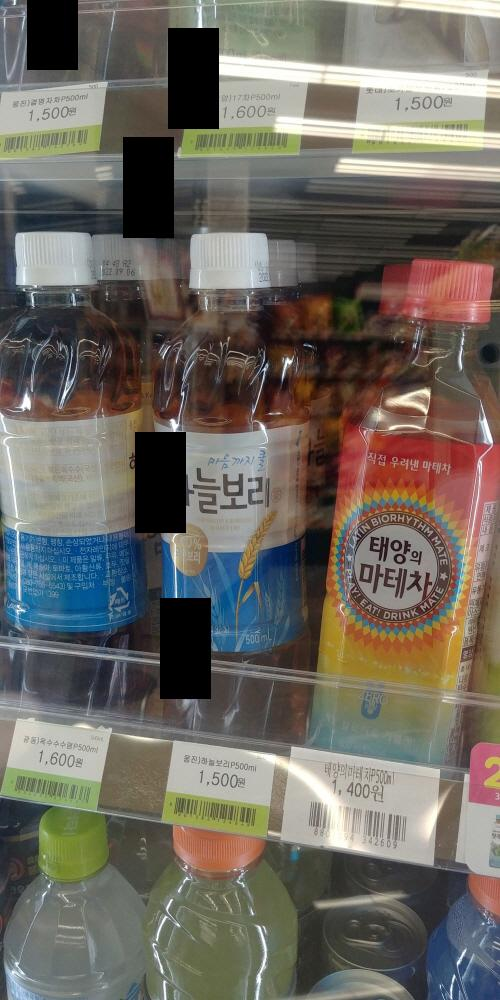haneulbori: (131, 218, 314, 745)
